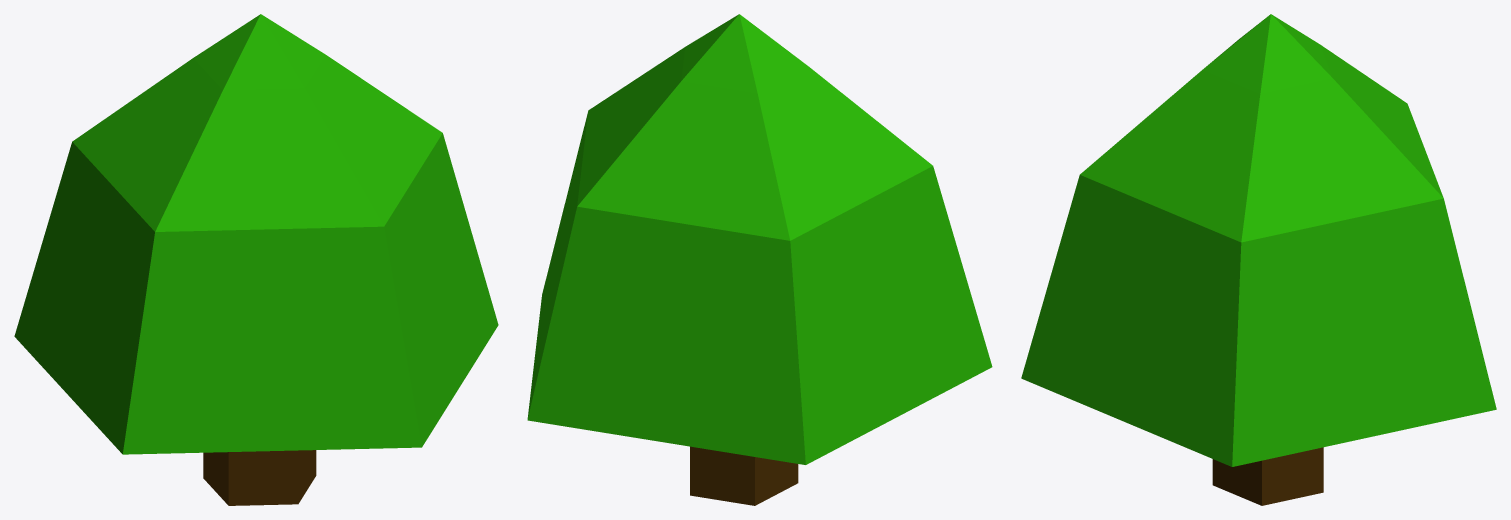
File: Bush_2.fbx
3 renders of one model, left to right at view 1: azimuth 30°, elevation 25°; view 2: azimuth 150°, elevation 25°; view 3: azimuth 270°, elevation 25°, orthographic.
Parts seen in each view (by area): view 1: Bush_2; view 2: Bush_2; view 3: Bush_2.
Part boxes in pixels (x1=…): Bush_2: x1=14, y1=14, x2=498, y2=505; Bush_2: x1=527, y1=14, x2=992, y2=505; Bush_2: x1=1021, y1=14, x2=1496, y2=505.
Bounding box in the file's own units: 149 × 162 × 149.
